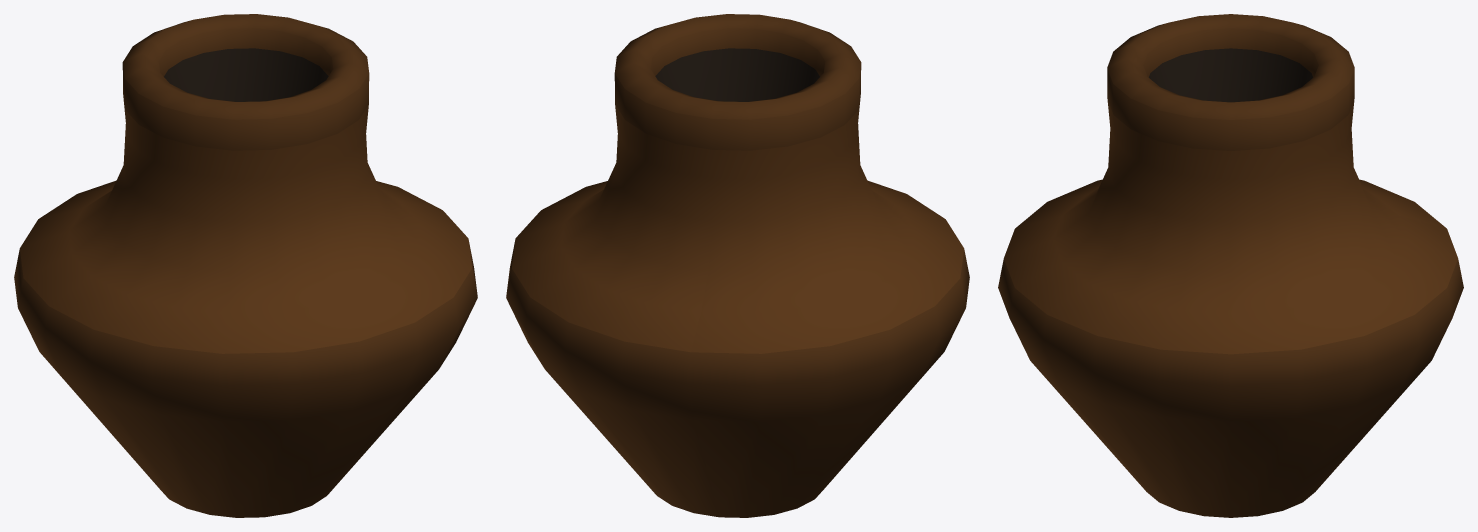
Rendered from urn.glb.
The picture shows the model from 3 angles, left to right: view 1: azimuth 30°, elevation 25°; view 2: azimuth 150°, elevation 25°; view 3: azimuth 270°, elevation 25°; orthographic projection.
Visible parts, largest first — view 1: Vase_4; view 2: Vase_4; view 3: Vase_4.
Boxes of the visible parts, left/top/right/bottom form: Vase_4: left=14, top=14, right=477, bottom=517; Vase_4: left=506, top=14, right=969, bottom=517; Vase_4: left=998, top=14, right=1463, bottom=517.
Bounding box in the file's own units: 1 × 1 × 1.
